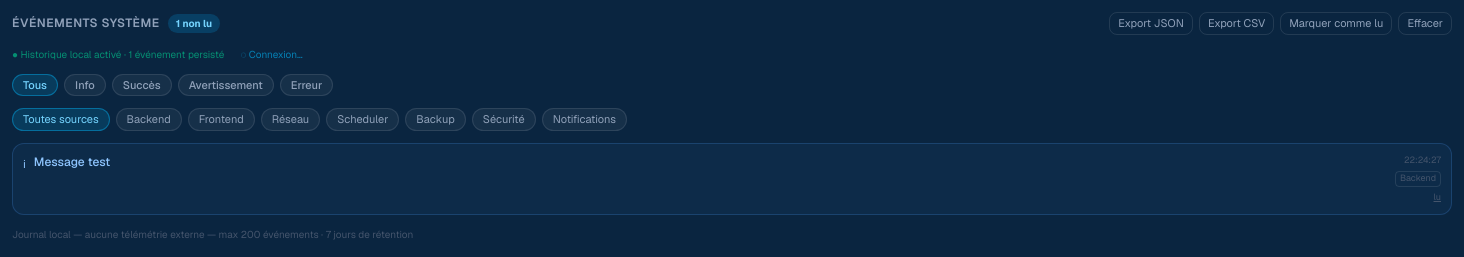
Test: SystemEventsPanel — vider le journal › demande confirmation avant d'effacer
The width and height of the screenshot is (1464, 257).
expect the text "Message test" is shown: met, box [34, 154, 110, 170]
Click the button "Effacer" at (1425, 23), box [1398, 12, 1452, 34]
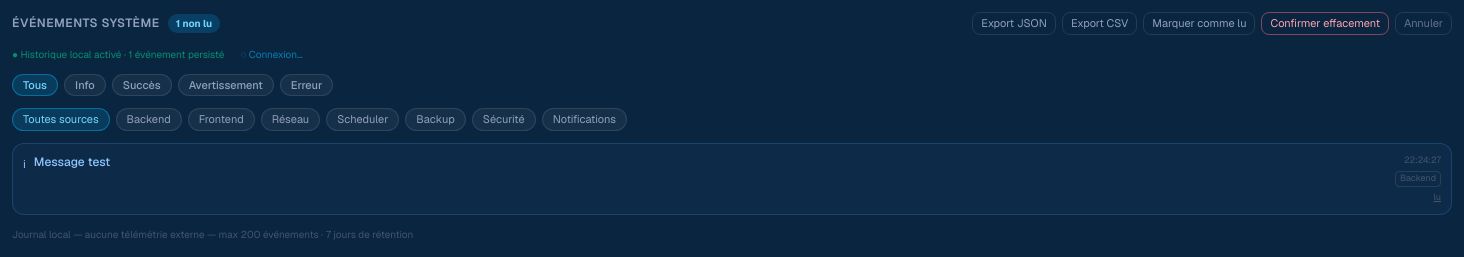
expect the button "Confirmer effacement" is shown: met, box [1262, 12, 1389, 34]
